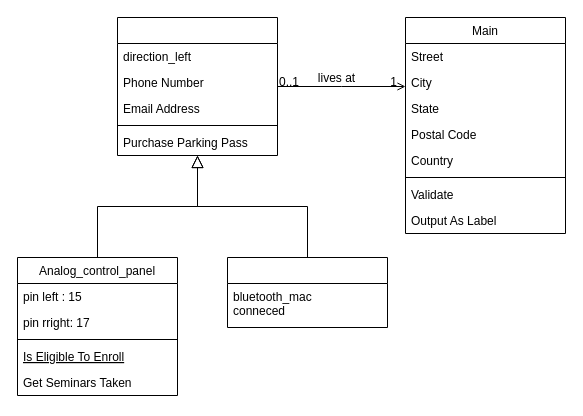
Image size: 583x416. Some labels were removed from this diagram. The box of each missing label's shape, as (x1, y1, x2, y2) in pixels:
Human_input: (116, 16, 278, 156)
Joycon: (226, 256, 388, 328)
